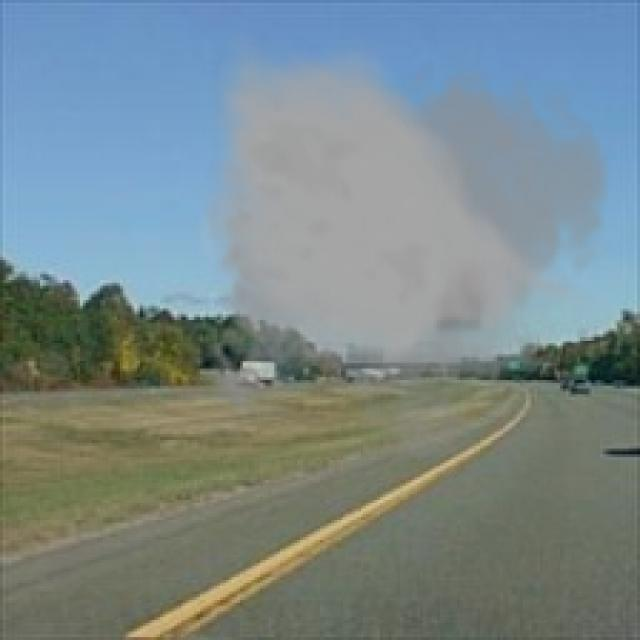smoke: (195, 34, 614, 460)
